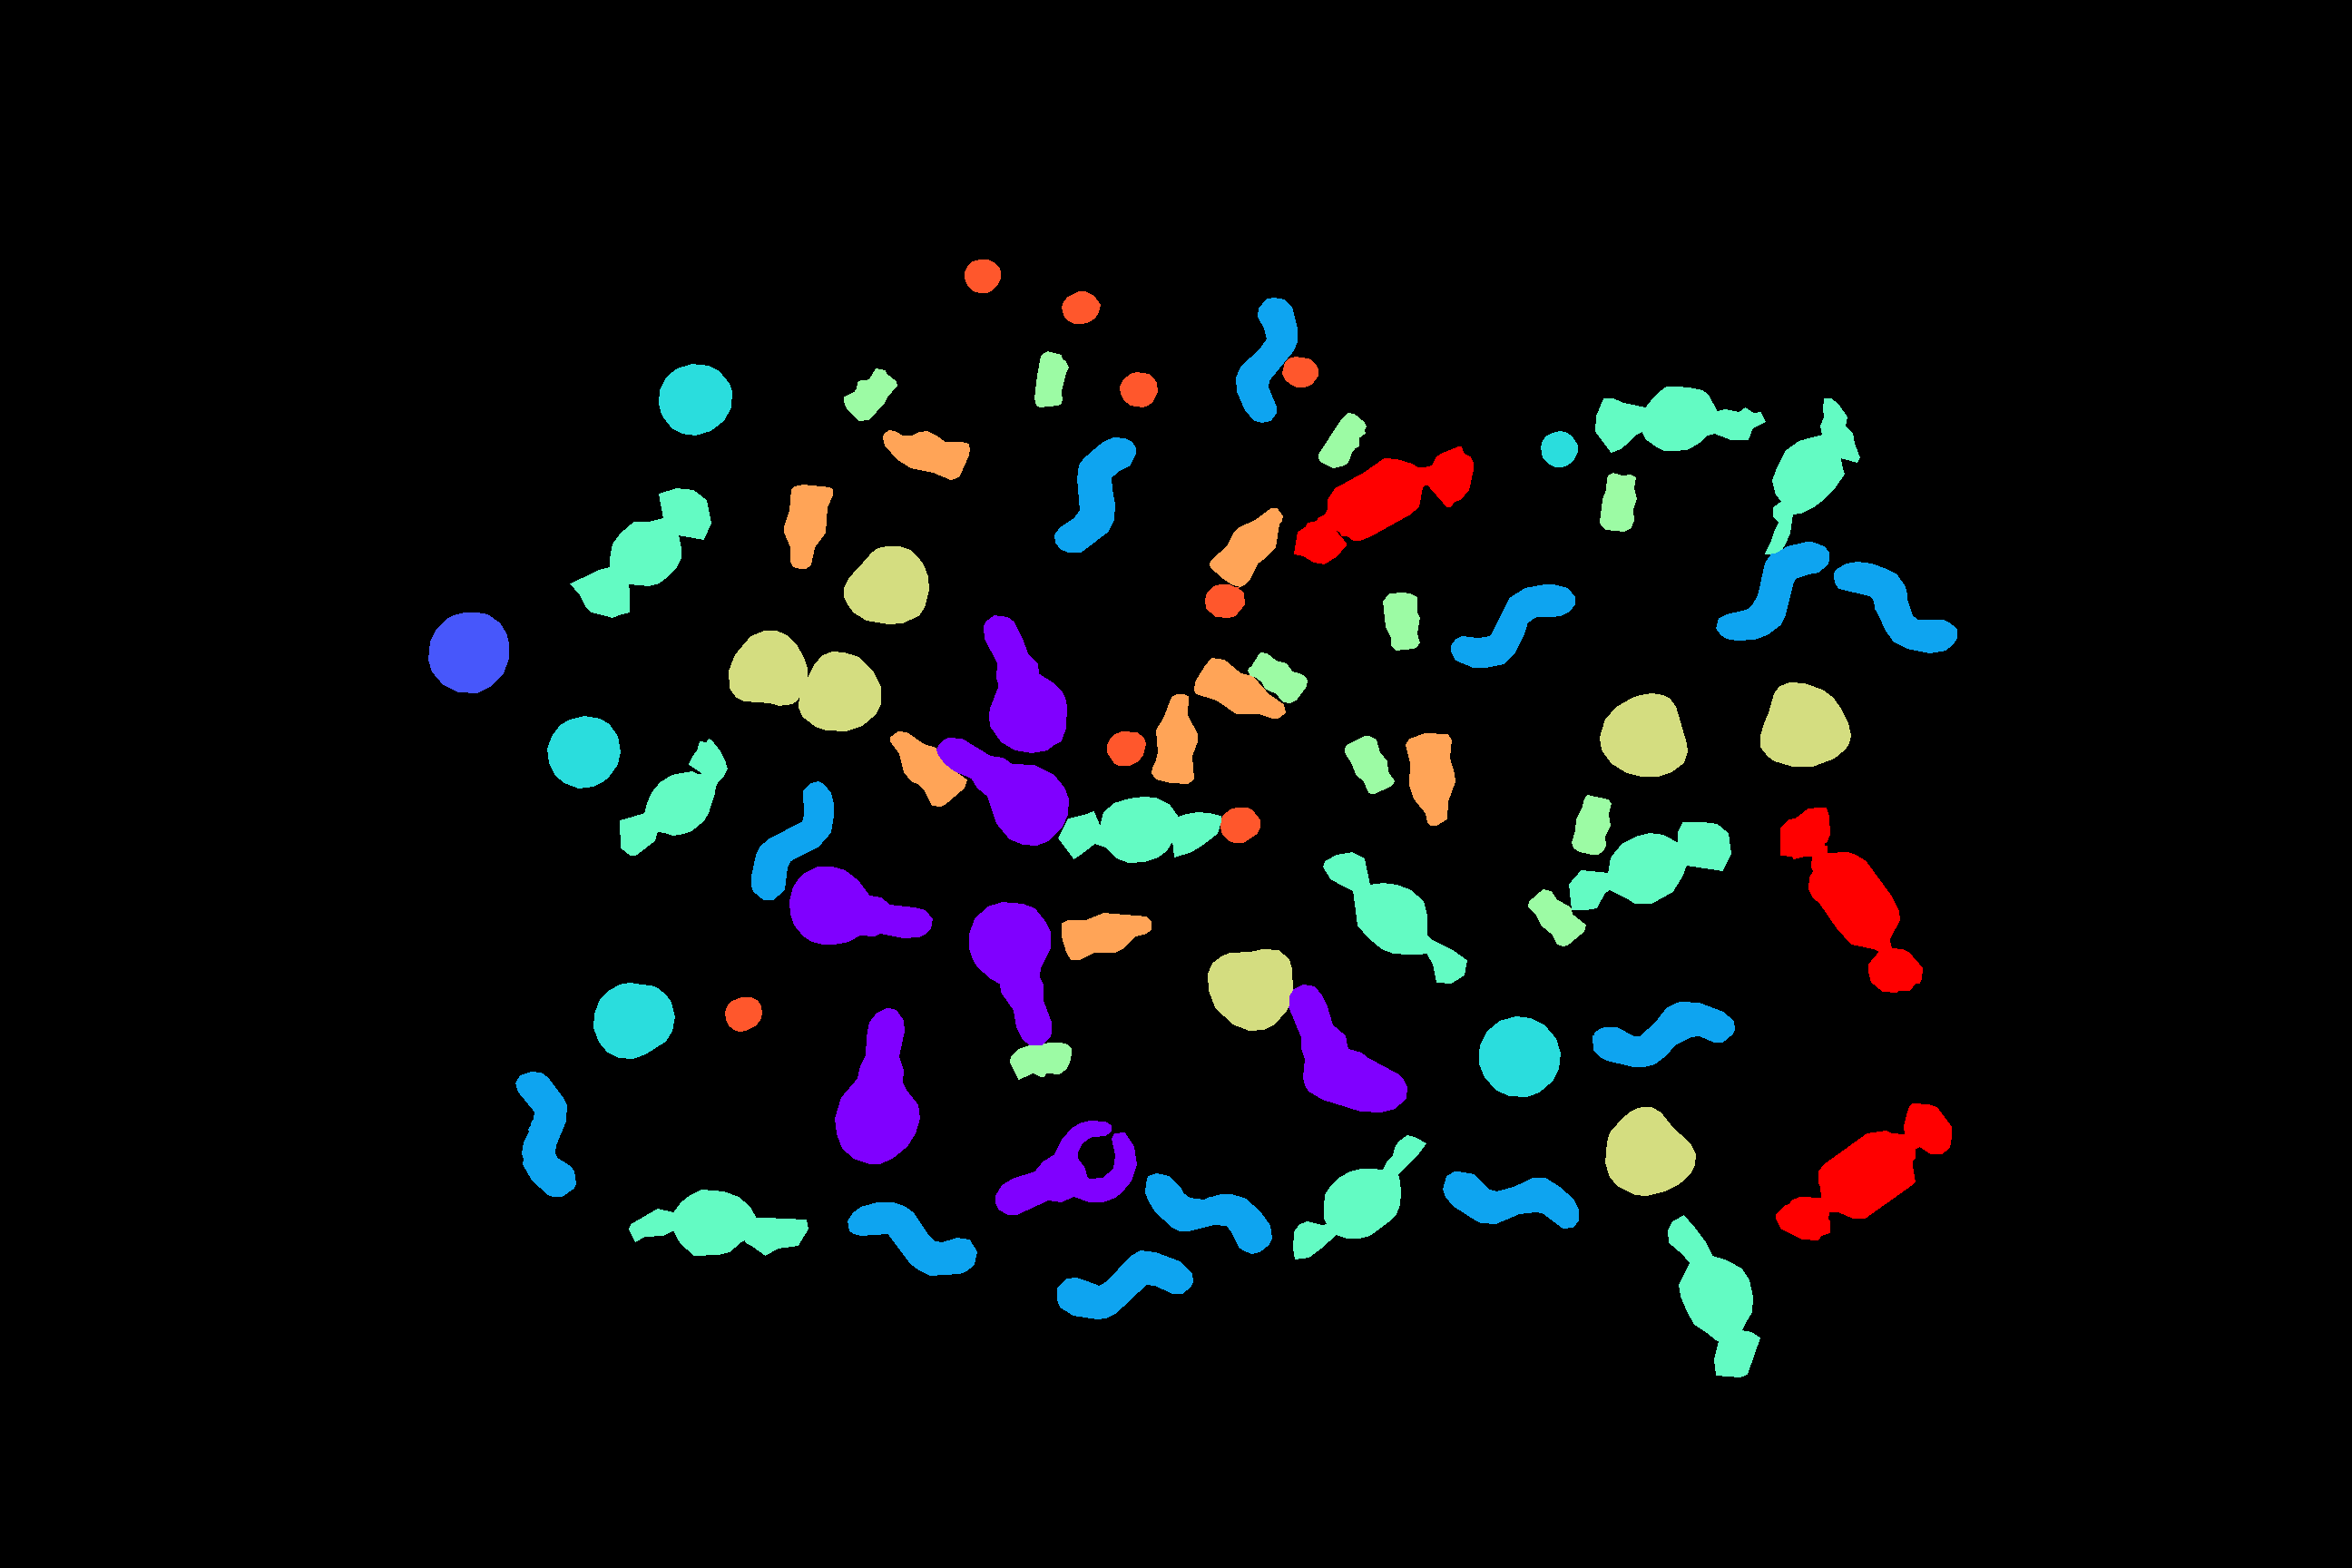apricot_jellies: (1605, 1108, 1696, 1195), (1760, 682, 1850, 767), (1600, 693, 1687, 775), (1207, 948, 1291, 1031), (798, 651, 880, 730), (843, 546, 927, 623), (728, 630, 807, 705)
bear: (1528, 889, 1585, 945), (1248, 653, 1307, 702), (1344, 737, 1393, 793), (843, 369, 896, 420), (1318, 413, 1365, 467), (1571, 794, 1610, 854), (1010, 1043, 1071, 1080), (1600, 473, 1636, 530), (1383, 593, 1419, 649), (1034, 352, 1068, 406)
coin_candy: (429, 612, 508, 693)
cola bottle candies: (1209, 508, 1283, 586), (891, 731, 966, 805), (1193, 658, 1285, 718), (1405, 733, 1454, 824), (884, 431, 970, 480), (1151, 695, 1197, 782), (1062, 914, 1150, 959), (784, 485, 831, 569)
dummies: (1288, 985, 1407, 1111), (936, 738, 1068, 845), (835, 1008, 922, 1164), (996, 1120, 1136, 1215), (970, 901, 1050, 1045), (984, 616, 1066, 753), (789, 866, 933, 943)
riesen: (1780, 807, 1921, 992), (1776, 1104, 1951, 1239), (1293, 446, 1473, 563)
skittles: (1220, 807, 1260, 842), (1206, 584, 1244, 618), (724, 997, 761, 1031), (1120, 373, 1157, 406), (1062, 291, 1099, 324), (1108, 731, 1144, 765), (964, 259, 999, 292), (1283, 357, 1318, 387)
sourworms: (1834, 562, 1957, 653), (1717, 542, 1829, 640), (1451, 584, 1575, 667), (1144, 1172, 1270, 1253), (751, 782, 833, 900), (847, 1202, 976, 1276), (1592, 1001, 1734, 1066), (1055, 438, 1136, 551), (1057, 1251, 1192, 1318), (1442, 1171, 1579, 1228), (1236, 298, 1297, 422), (516, 1071, 576, 1195)
tofifee: (1479, 1017, 1559, 1095), (593, 984, 674, 1059), (548, 716, 620, 788), (658, 364, 731, 434), (1540, 431, 1577, 467)
vollmilch_brocken: (1323, 852, 1466, 984), (571, 488, 710, 618), (1293, 1136, 1426, 1258), (1668, 1215, 1759, 1377), (1766, 399, 1859, 553), (1570, 822, 1731, 910), (620, 738, 726, 854), (628, 1190, 807, 1255), (1596, 387, 1766, 451), (1059, 796, 1220, 863)
